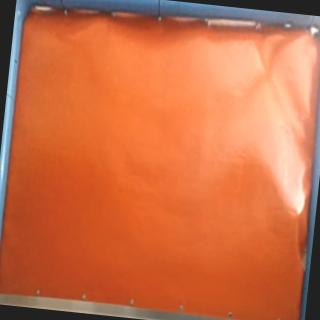Hit-hRxx: (288, 204, 302, 218)
